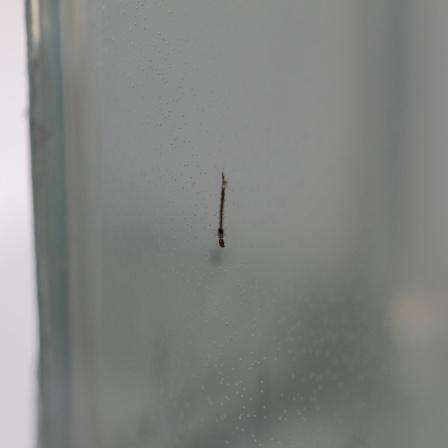Jentik-Nyamuk: (213, 165, 232, 257)
